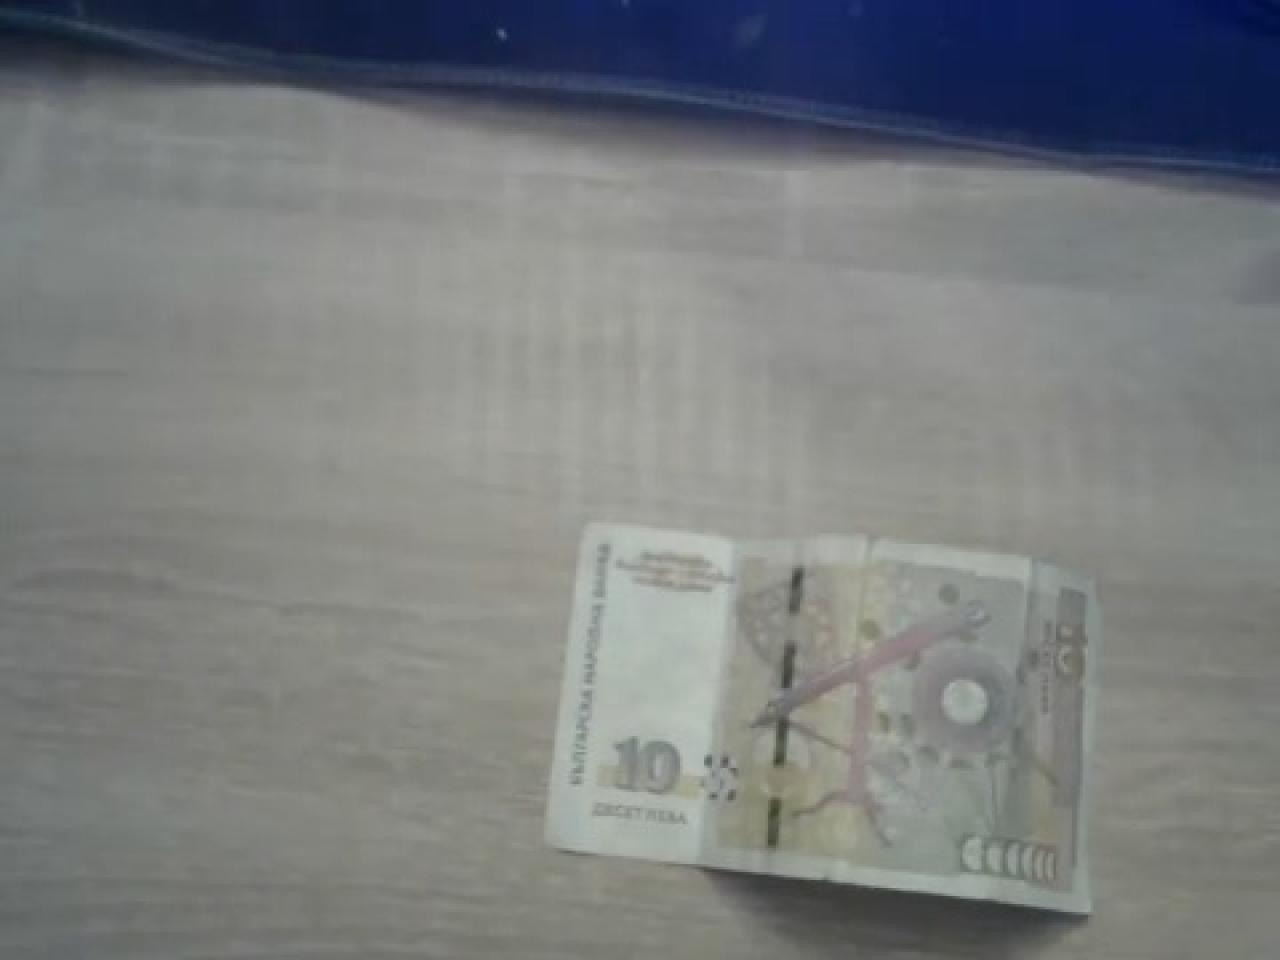10leva: (546, 525, 1104, 920)
